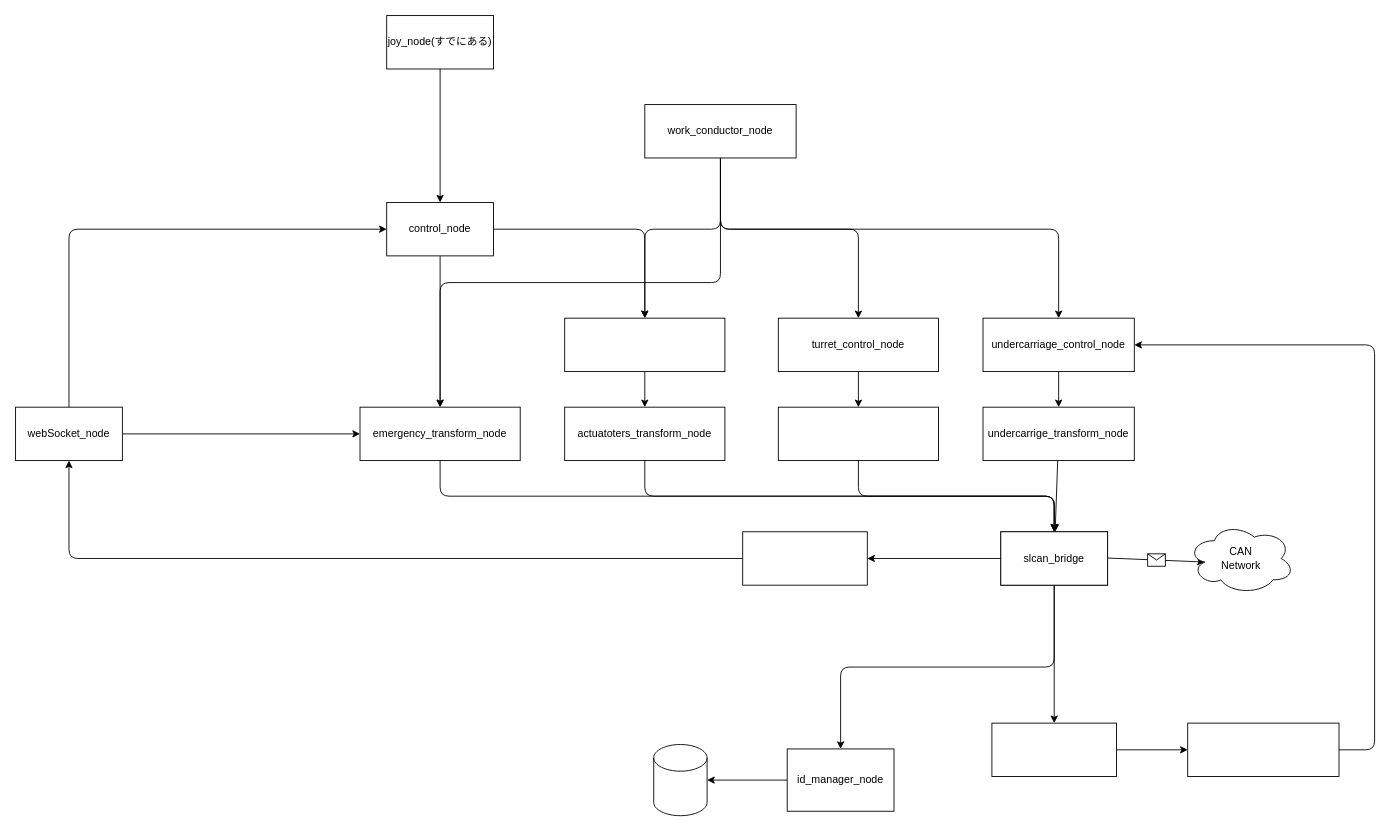
Image size: 1397x831. Some labels were removed from this diagram. The shapes that lost their labels are listed below. From the top down, each one's centre as x and y in pixels, then its label:
At (644,344): "actuatoters_control_node".
At (858,433): "turret_transform_node".
At (804,558): "Status_transform_node".
At (1054,749): "odometry_transform_node".
At (1263,749): "odometry_calculate_node".
At (680,780): "ROS Param".
